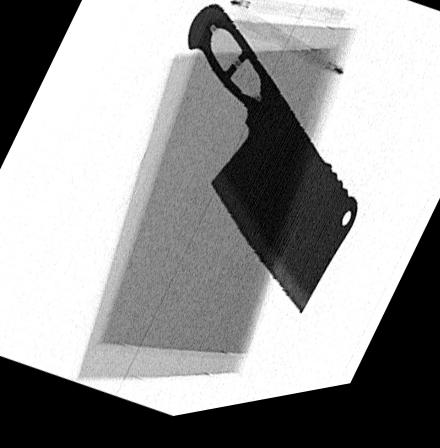Knife: (188, 10, 359, 326)
